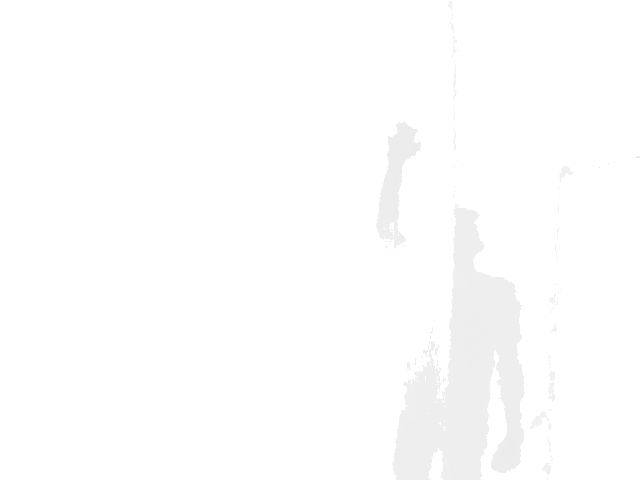hand: (386, 120, 423, 162)
head: (449, 206, 486, 269)
person: (374, 120, 527, 480)
